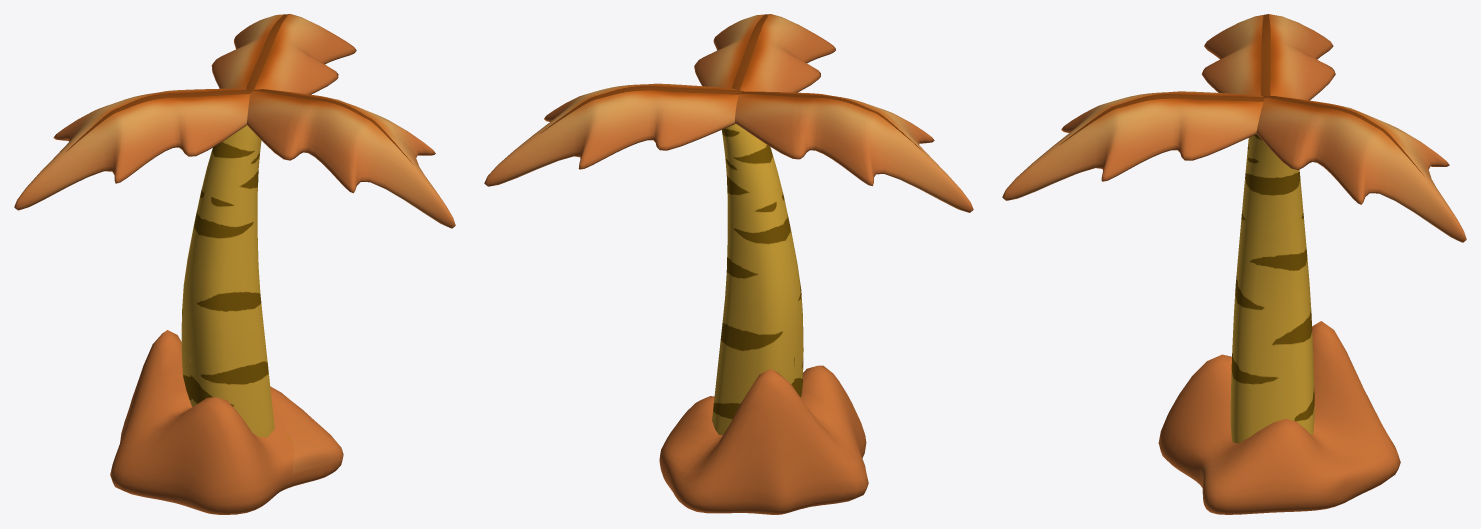
Rendered from palmera.fbx.
The picture shows the model from 3 angles, left to right: view 1: azimuth 30°, elevation 25°; view 2: azimuth 150°, elevation 25°; view 3: azimuth 270°, elevation 25°; orthographic projection. The views are drawn at different scales.
Parts seen in each view (by area): view 1: Cube.004; view 2: Cube.004; view 3: Cube.004.
Part boxes in pixels (x1,y1,x2,y2): Cube.004: (14,14,455,514); Cube.004: (484,14,973,514); Cube.004: (1002,14,1466,514).
Bounding box in the file's own units: 1101 × 1055 × 1081.
